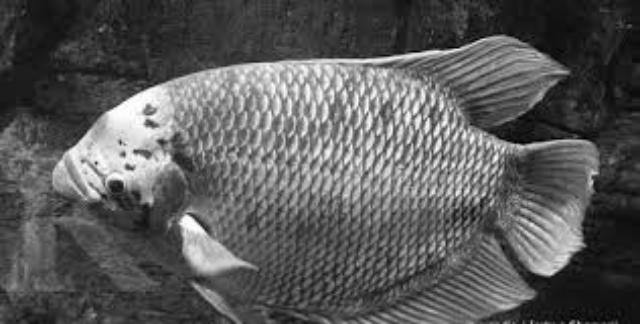Mulut: (28, 134, 108, 220)
Sirip Anal: (290, 234, 544, 324)
Sirip Dada: (161, 190, 271, 286)
Sirip Ekor: (492, 115, 620, 298)
Sirip Perut: (170, 264, 256, 324)
Sirip Punggung: (267, 27, 579, 140)
